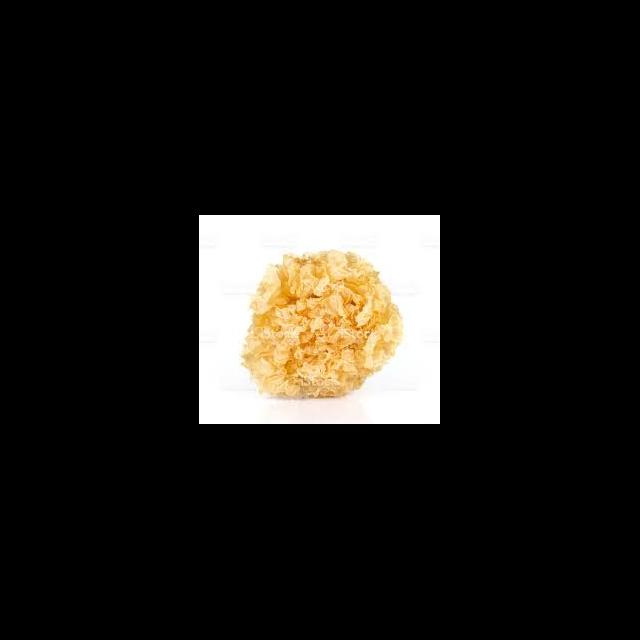food_waste: (229, 244, 403, 401)
